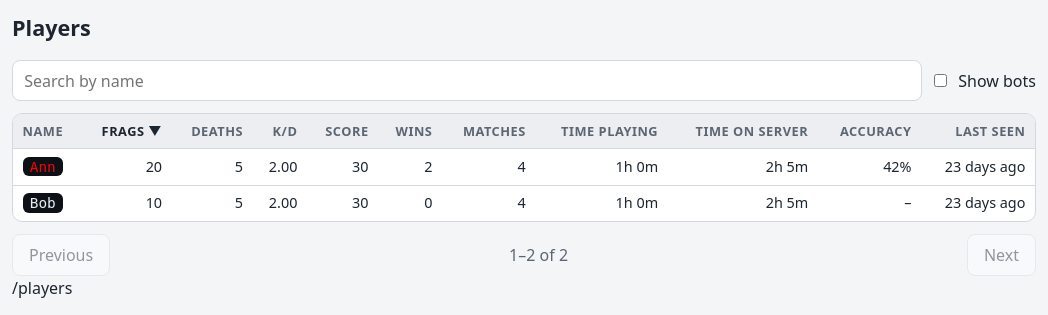
Test: the Players table (7.2) › searches by name after a short pause
Expected: the text "Bob" is shown, top-left (30, 195), bottom-right (56, 211)
Type "ace" into the search field named "Search players". click: {"x": 467, "y": 81}
box: top-left (12, 60), bottom-right (922, 101)
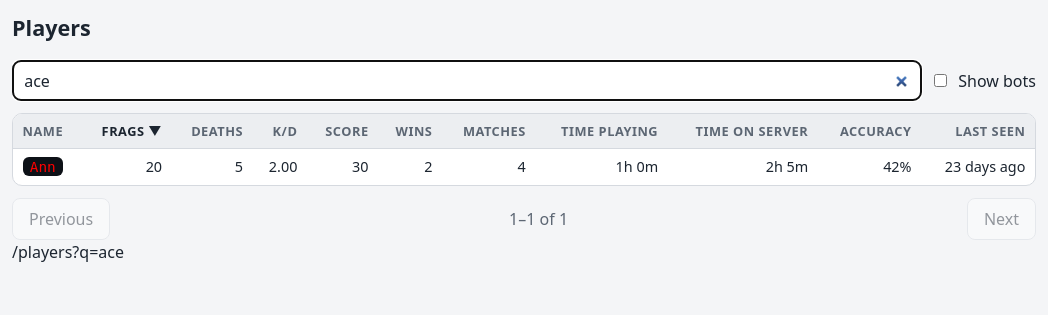
Now the button "Bob" is gone
Now the text with test id "where" shows "q=ace", box top-left (12, 240), bottom-right (124, 262)
